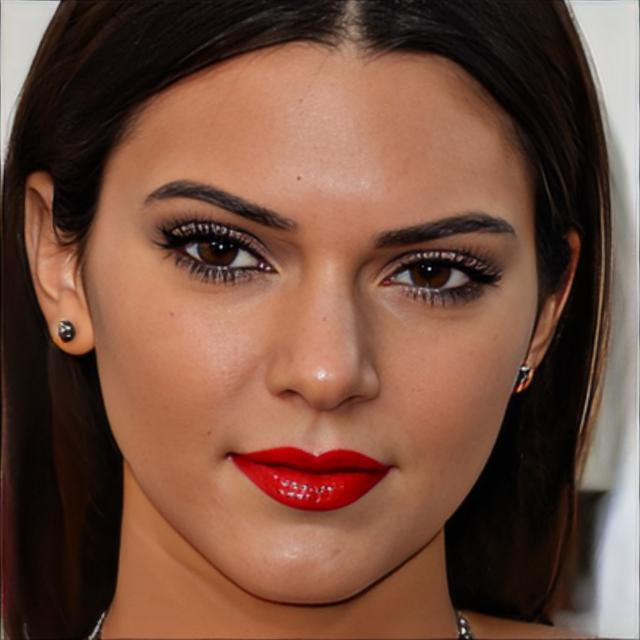content: (89, 26, 524, 596)
